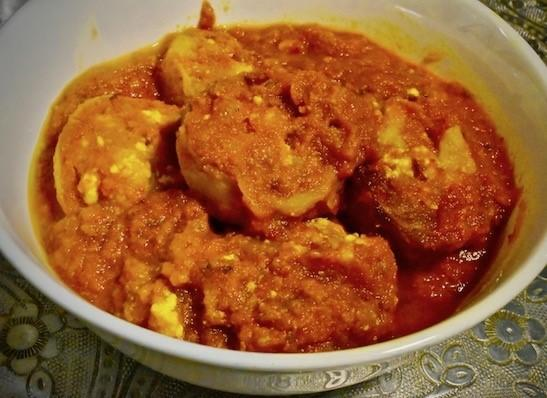DumAloo: (27, 21, 521, 354)
